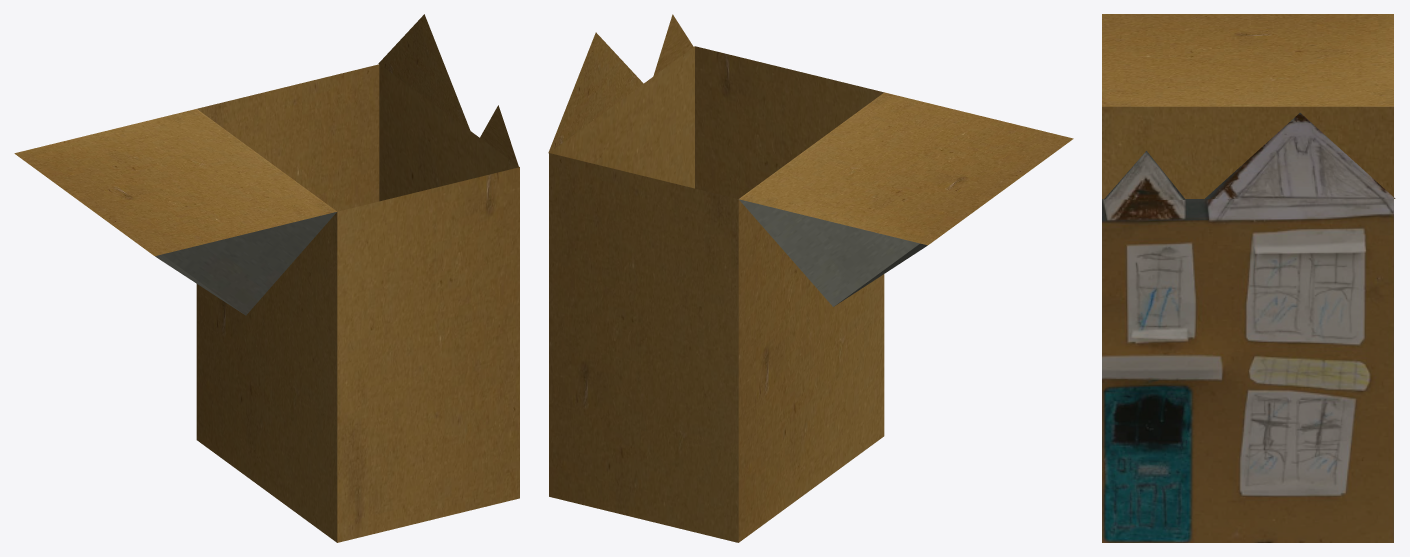
The model's file is dls.gltf.
3 views of the same model, side by side, from view 1: azimuth 30°, elevation 25°; view 2: azimuth 150°, elevation 25°; view 3: azimuth 270°, elevation 25° (orthographic). The views are drawn at different scales.
Visible parts, largest first — view 1: Cube, Cube.002, Cube.003; view 2: Cube, Cube.002, Cube.003; view 3: Cube, Cube.002, Cube.003.
Part boxes in pixels (bbox=[...]): Cube: bbox=[196, 167, 519, 542]; Cube.002: bbox=[14, 109, 336, 315]; Cube.003: bbox=[197, 14, 519, 211]; Cube: bbox=[549, 153, 884, 542]; Cube.002: bbox=[738, 92, 1073, 306]; Cube.003: bbox=[548, 14, 883, 198]; Cube: bbox=[1102, 113, 1395, 542]; Cube.002: bbox=[1102, 14, 1393, 106]; Cube.003: bbox=[1102, 106, 1393, 198].
Bounding box in the file's own units: 15 × 16.27 × 10.07.
Materials: 1 (1 with a texture image).
